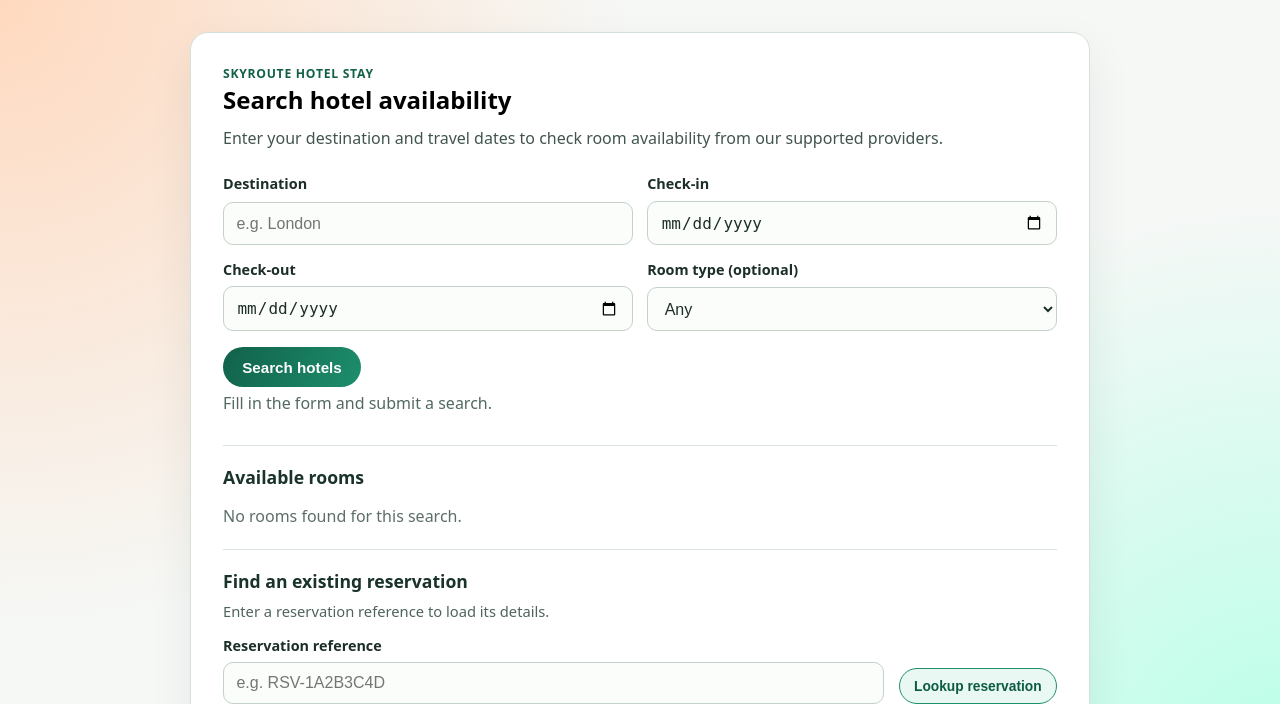
Test: App — search success state › shows the room count in the success message after a search
Type "London" into the field labelled "Destination" at (428, 224), box [223,202,633,246]
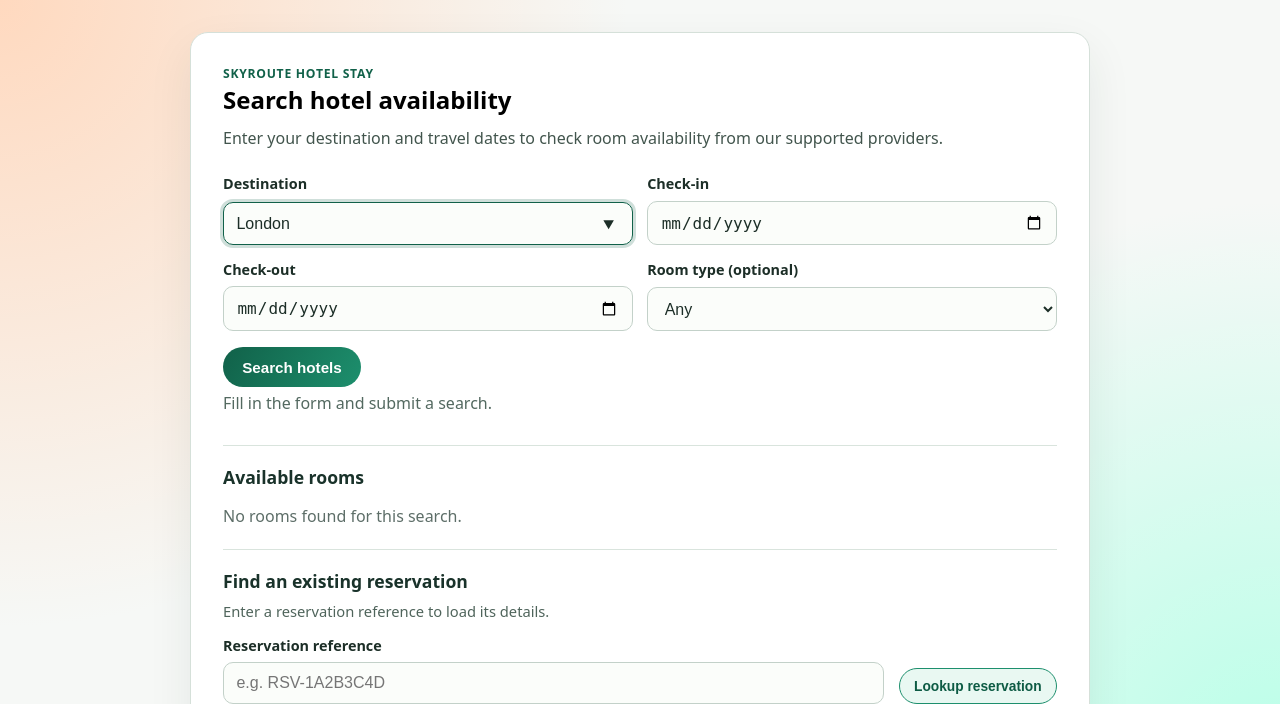
Type "2026-09-01" into the date field labelled "Check-in" at (852, 223), box [647,201,1057,246]
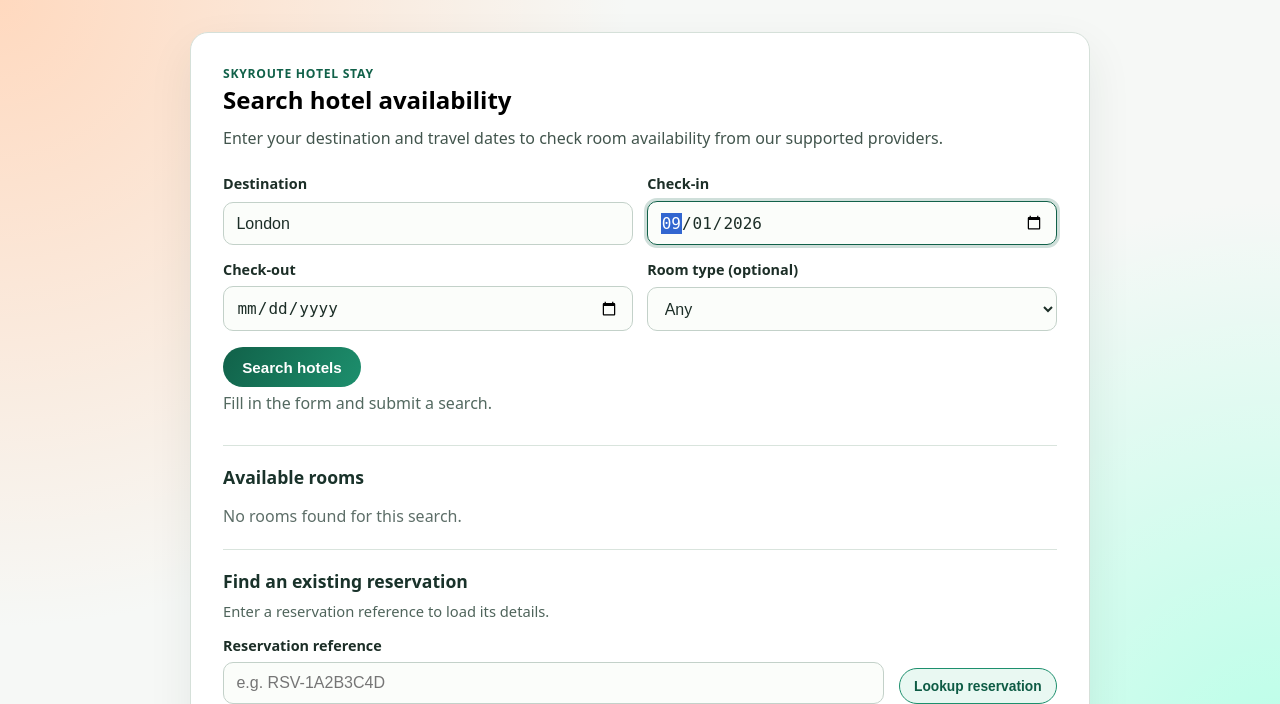
Type "2026-09-04" into the date field labelled "Check-out" at (428, 309), box [223,286,633,331]
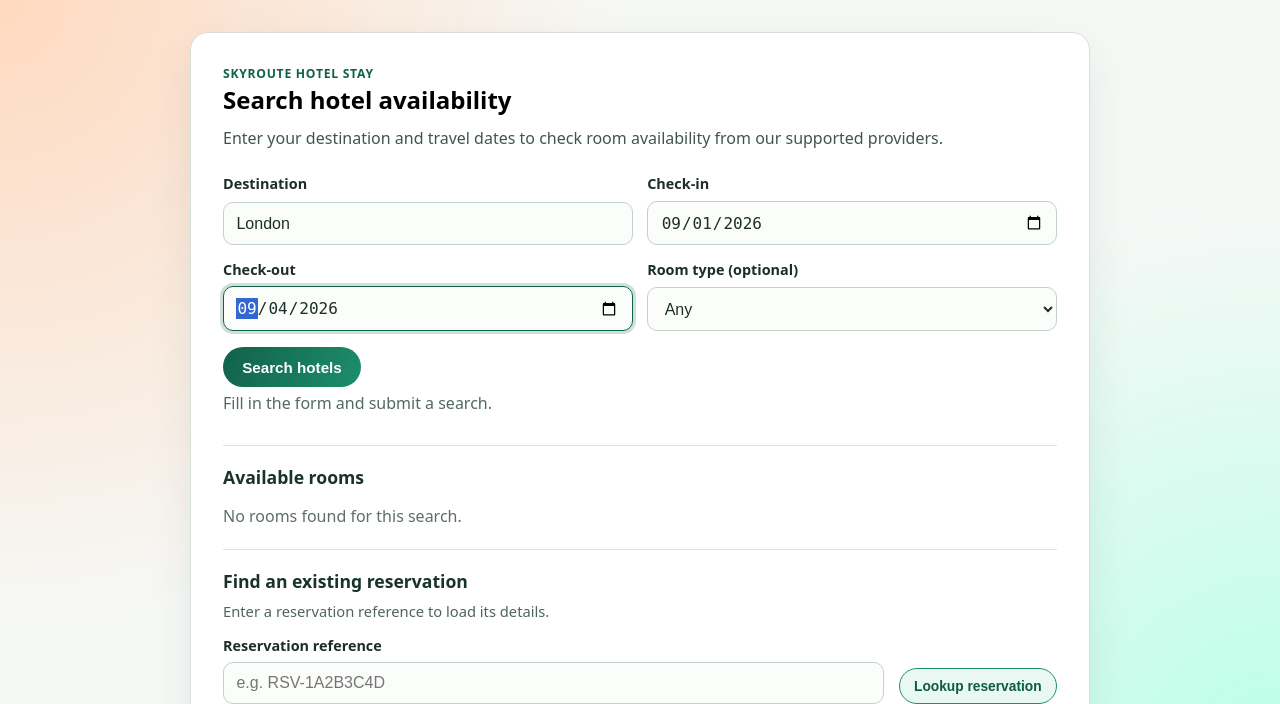
Click the button "Search hotels" at (292, 367), box [223,347,361,387]
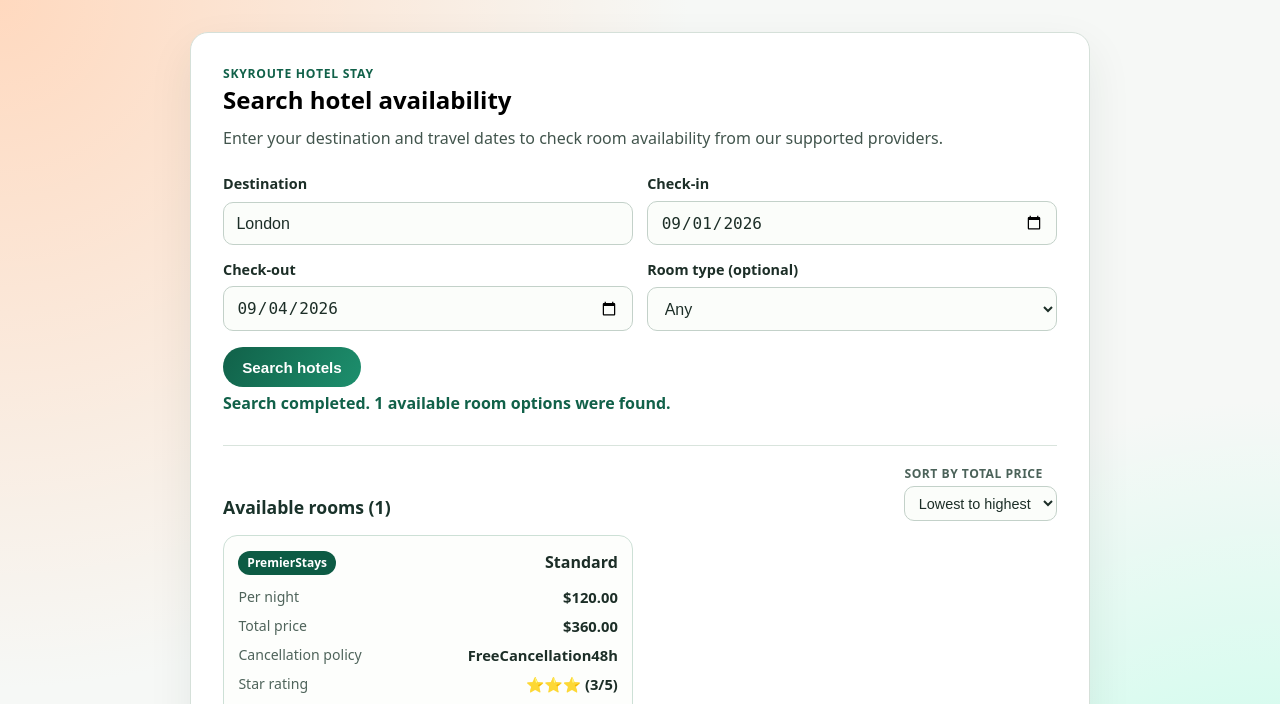
Expected: the text "Search completed. 1 available room options were found." is shown, [223,392,671,414]
